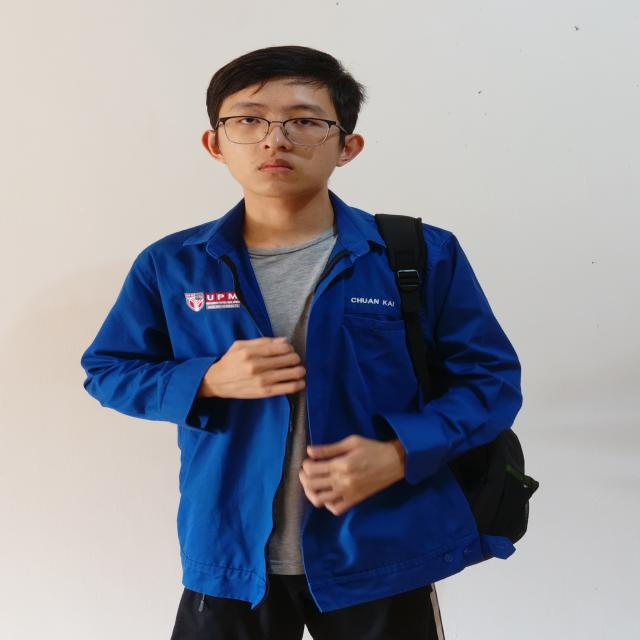person_with_labcoat: (82, 46, 538, 640)
